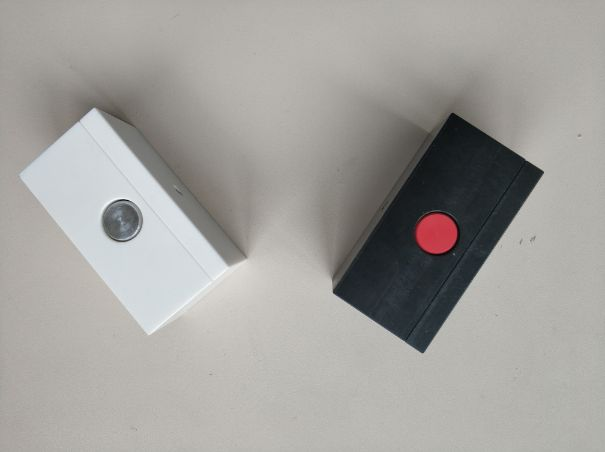black+black+red: (330, 111, 546, 357)
white+white+silver: (15, 106, 251, 338)
